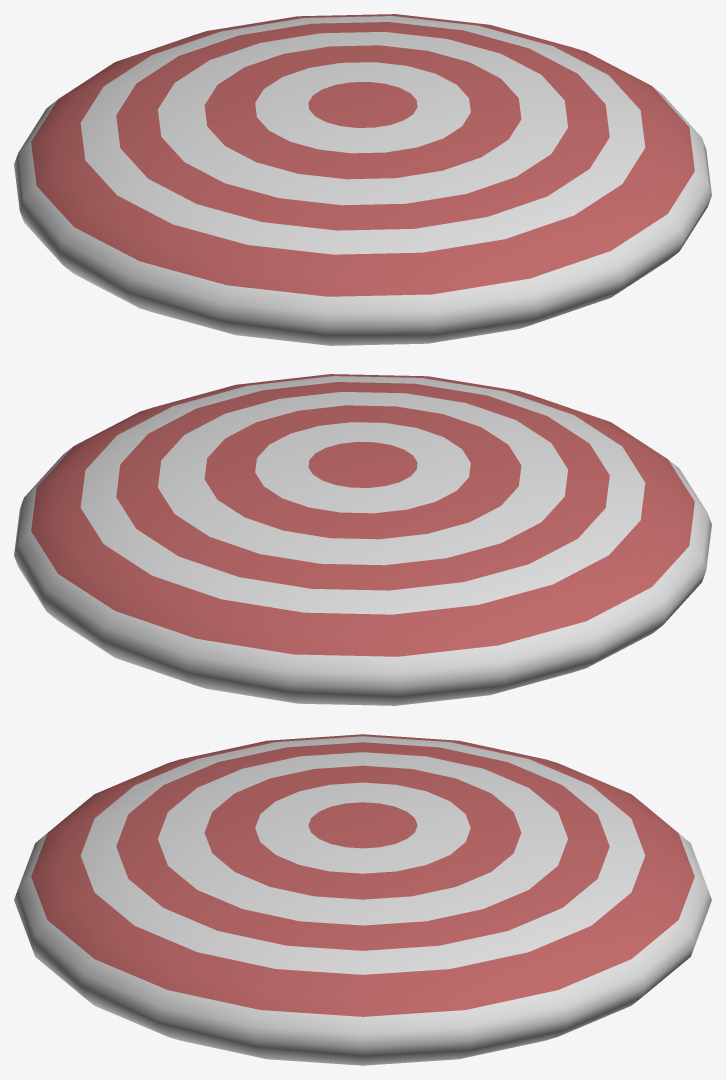
Rendered from target.fbx.
The picture shows the model from 3 angles, top to bottom: view 1: azimuth 30°, elevation 25°; view 2: azimuth 150°, elevation 25°; view 3: azimuth 270°, elevation 25°; orthographic projection.
Parts seen in each view (by area): view 1: pSphere1; view 2: pSphere1; view 3: pSphere1.
Boxes of the visible parts, x1,y1,x2,y2 form: pSphere1: [14, 14, 711, 345]; pSphere1: [14, 374, 711, 705]; pSphere1: [14, 734, 711, 1065].
Size of the model in its own units: 0.02 by 0.00478 by 0.02.
